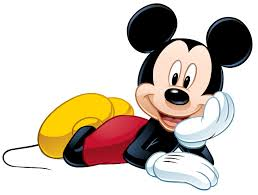mickey: (38, 3, 252, 191)
